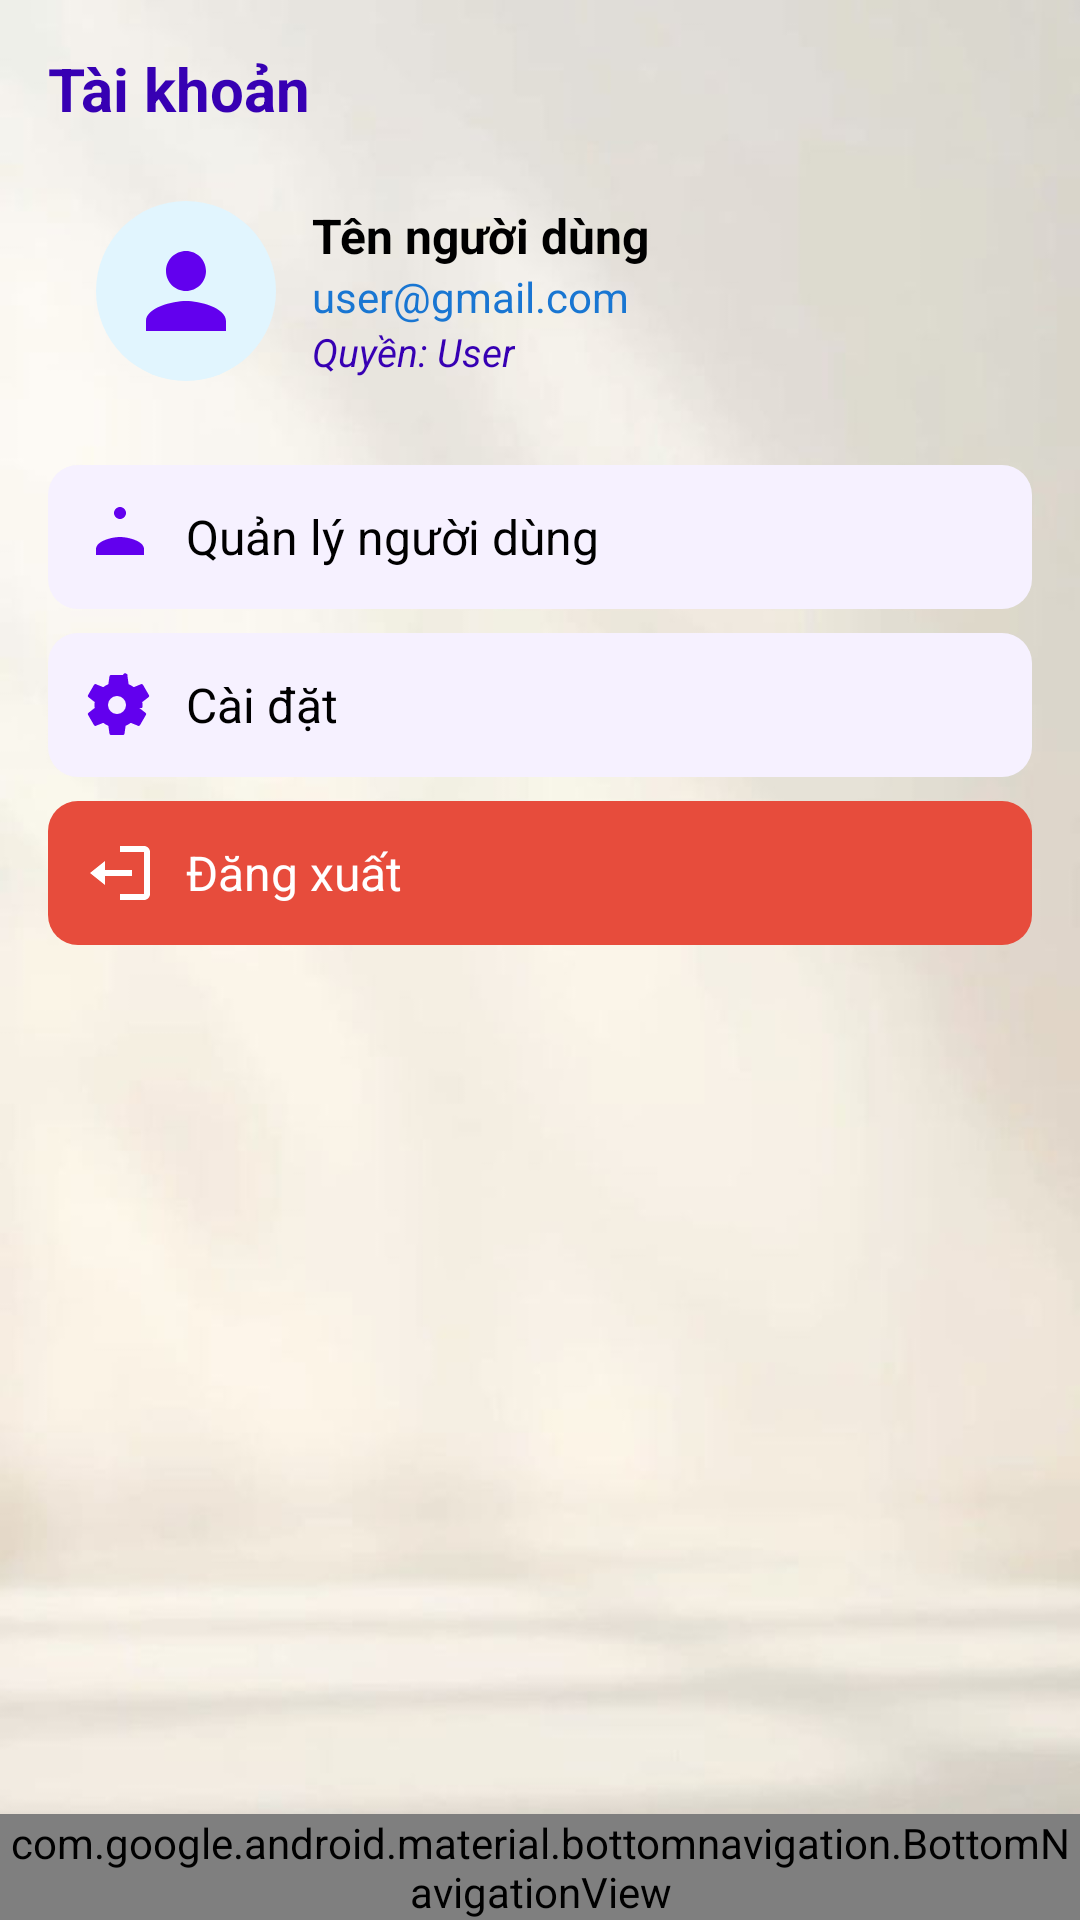

Icons on this 1080px x 1920px Android screen, each with its box as bbox(x1, y1, x2, y2):
settings: bbox(88, 673, 149, 735)
